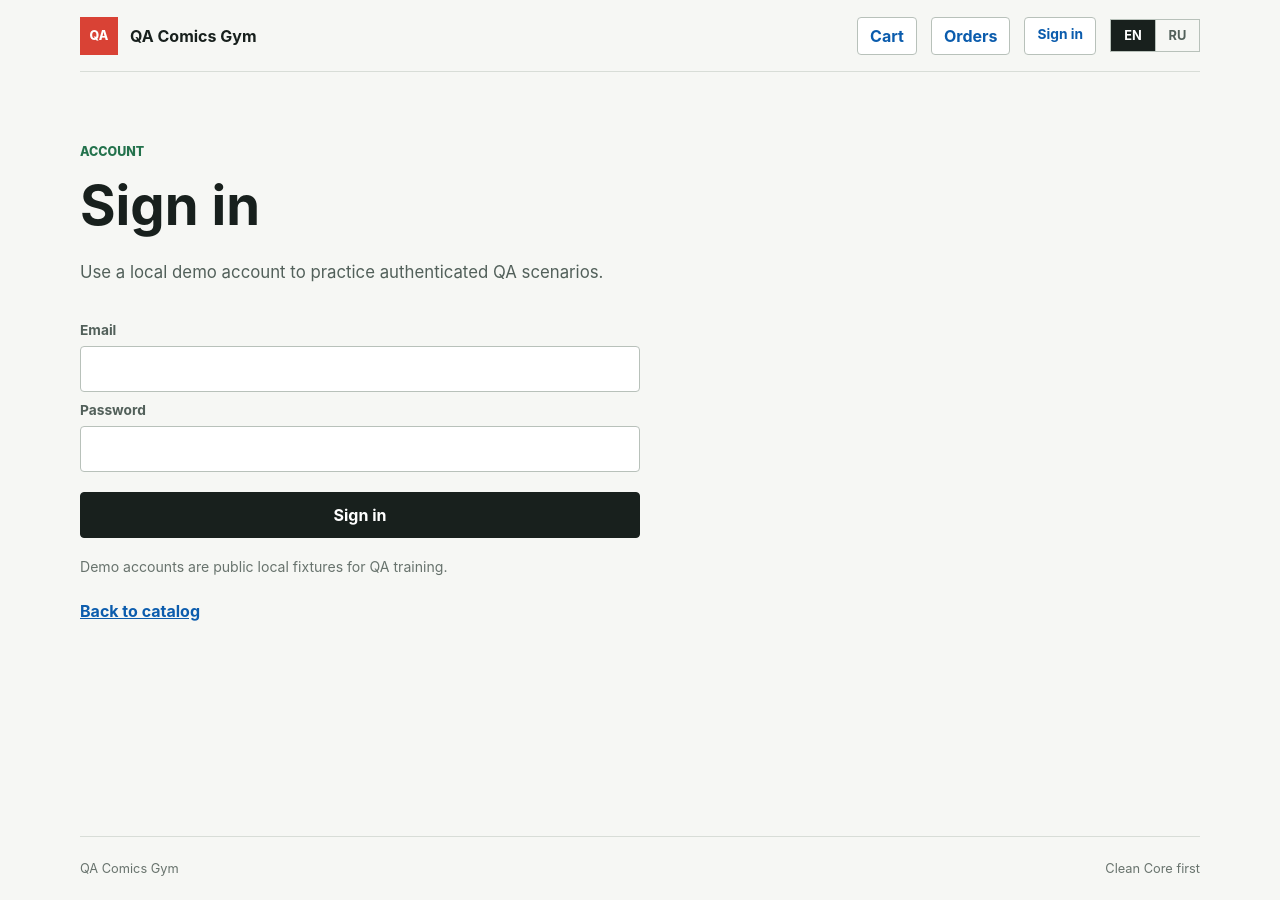
Scenario: frontend auth flow › renders the localized English login route and validates fields
The image size is (1280, 900).
Expected: the heading "Sign in" is shown, [80,172,260,238]
Step 1. Click the button "Sign in" → (360, 515), box [80,492,640,538]
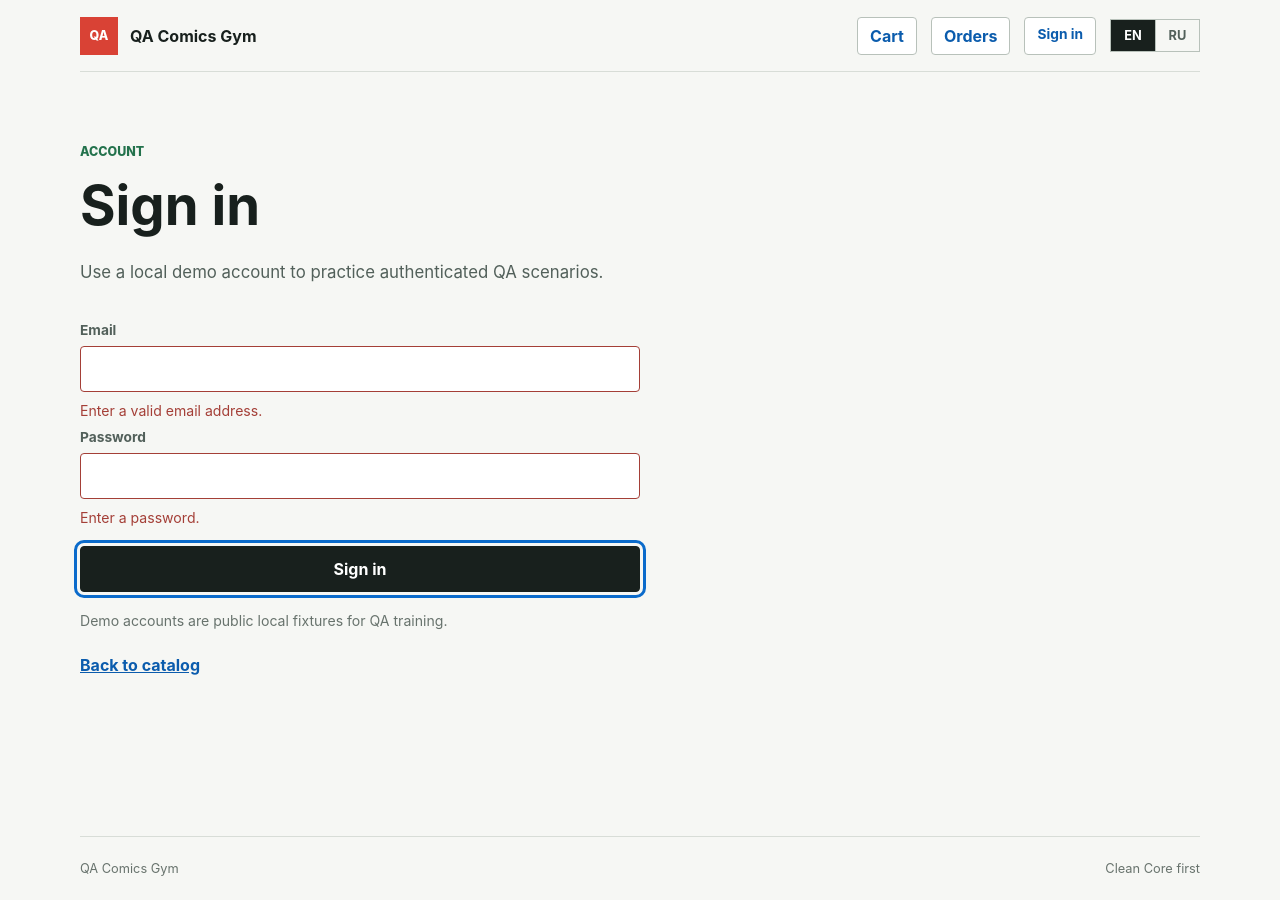
Result: the text "Enter a valid email address." is shown at [80,402,262,419]
Result: the text "Enter a password." is shown at [80,509,200,526]
